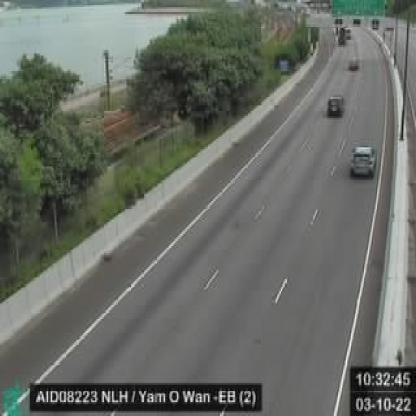Car: (351, 146, 376, 176), (326, 96, 344, 114)
